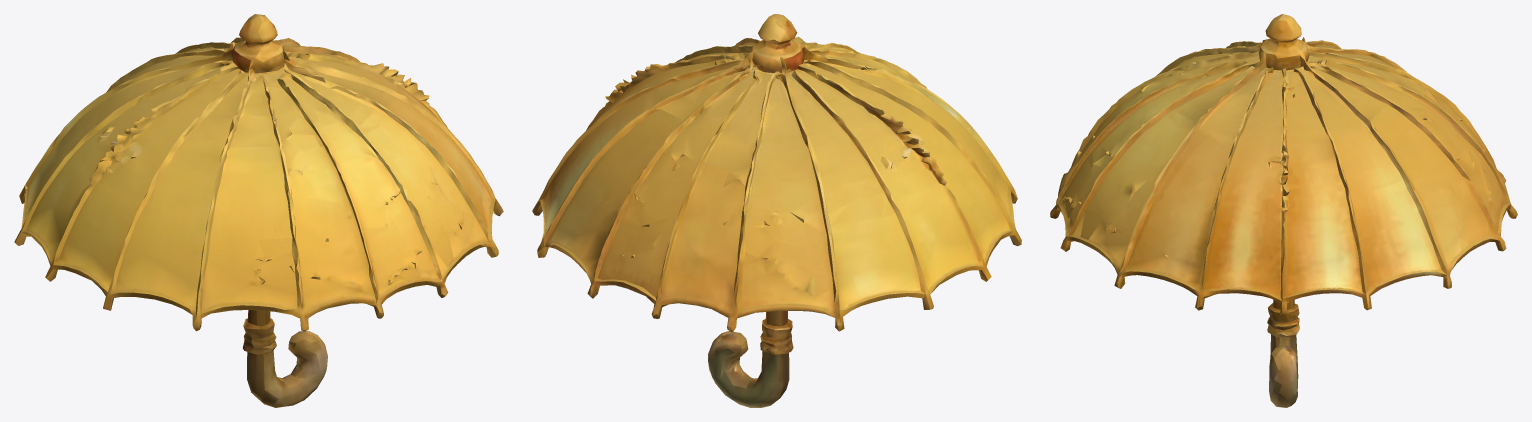
Rendered from umbrella-gold.glb.
The picture shows the model from 3 angles, left to right: view 1: azimuth 30°, elevation 25°; view 2: azimuth 150°, elevation 25°; view 3: azimuth 270°, elevation 25°; orthographic projection. The views are drawn at different scales.
Visible parts, largest first — view 1: geometry_0; view 2: geometry_0; view 3: geometry_0.
Part boxes in pixels (x1,y1,x2,y2): geometry_0: (14, 14, 503, 407); geometry_0: (532, 14, 1021, 407); geometry_0: (1050, 14, 1517, 407).
Size of the model in its own units: 0.9 by 0.8015 by 0.9013.
Materials: 1 (1 with a texture image).
